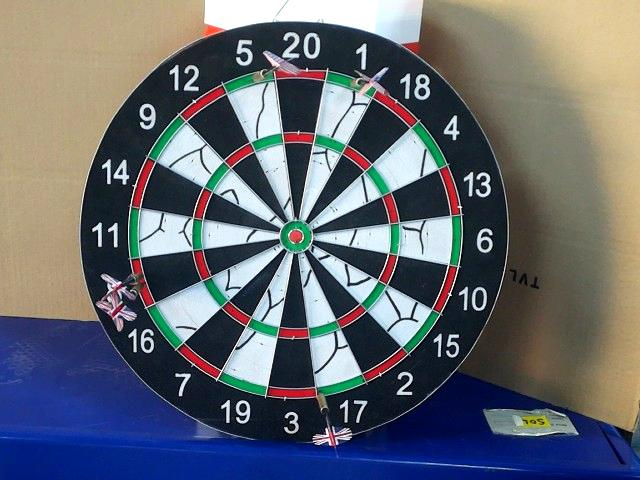double_1: (328, 73, 372, 93)
double_17: (327, 378, 362, 388), (325, 391, 340, 396)
double_5: (226, 71, 271, 93)
double_8: (133, 259, 155, 306)
